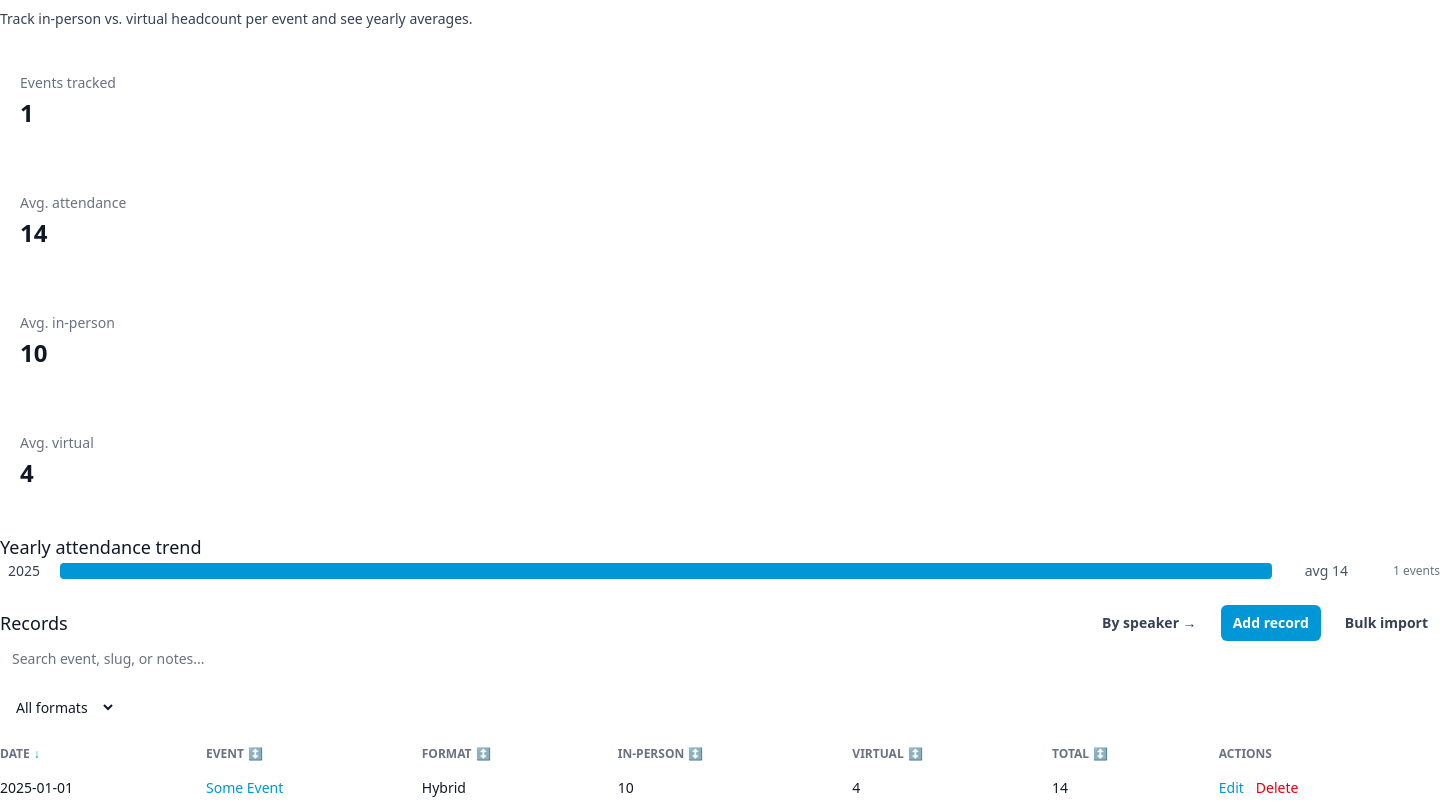
Test: AttendancePage (admin) › opens the edit form for a record in a modal and saves changes
(page scrolled)
Expected: the link "Some Event" is shown, 206,778 -> 283,797
Click the button "Edit".
click(1231, 788)  # box 1219,778 -> 1244,798
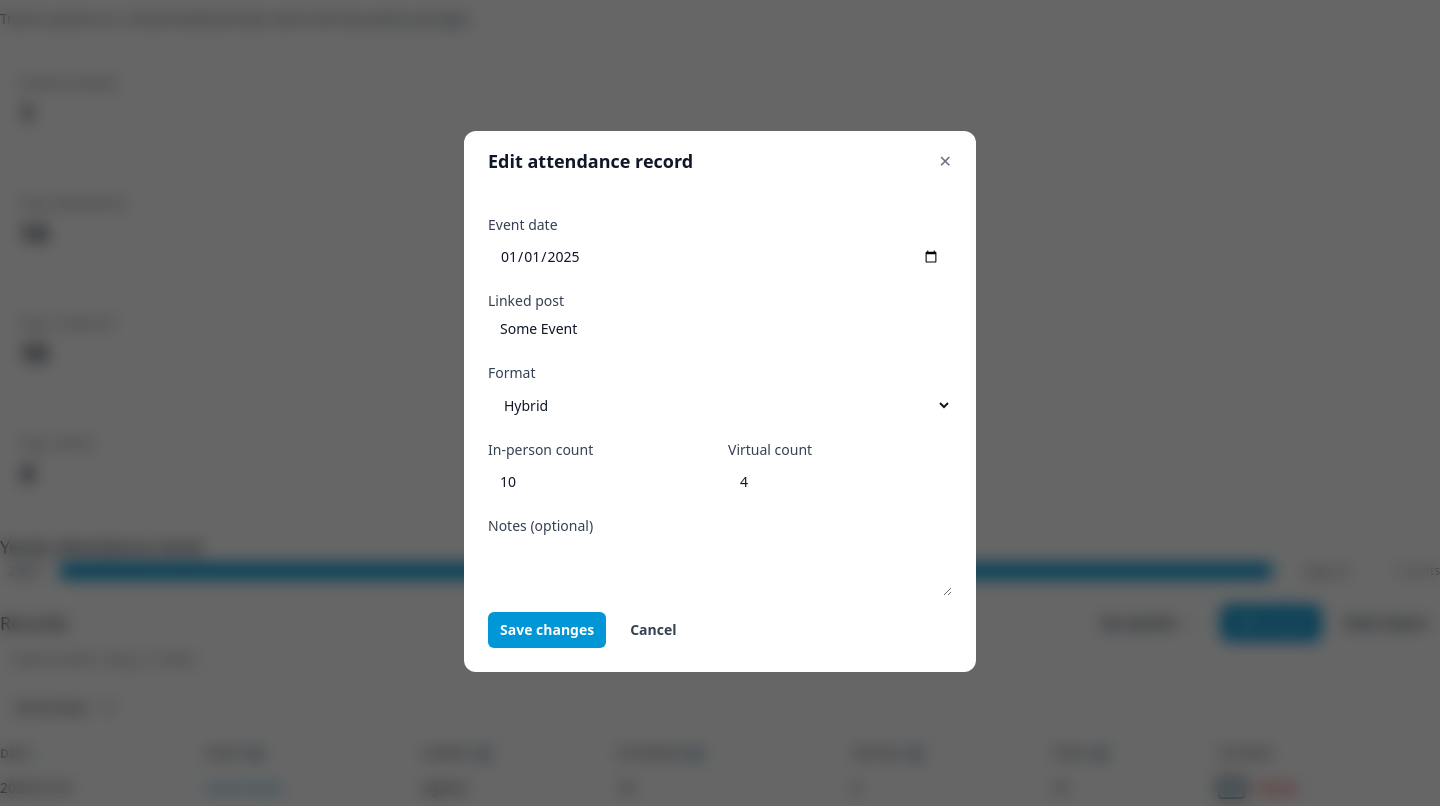
Expected: the heading "Edit attendance record" is shown, 488,146 -> 693,174
Click the button "Save changes".
click(547, 630)  # box 488,612 -> 606,648
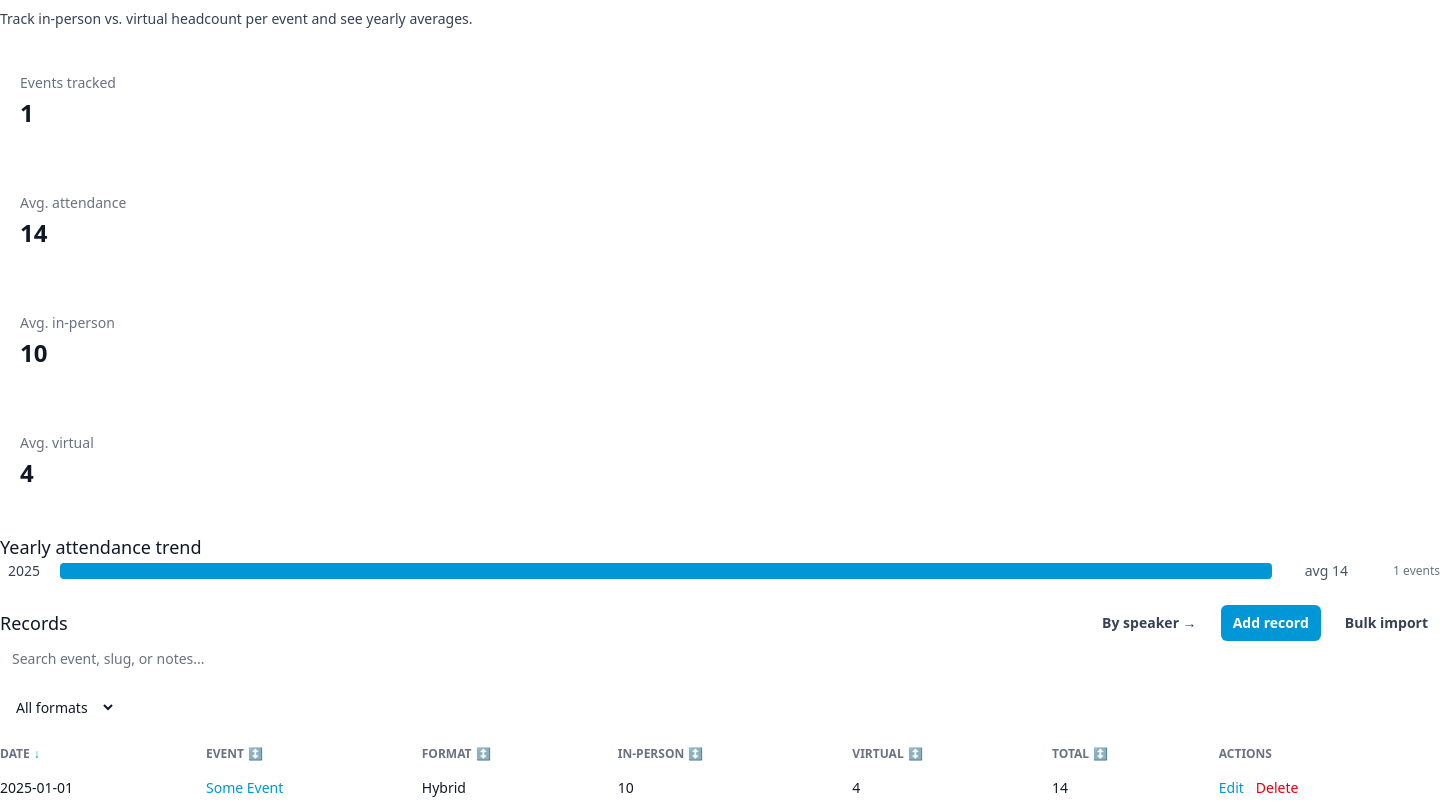
Expected: the heading "Edit attendance record" is gone
